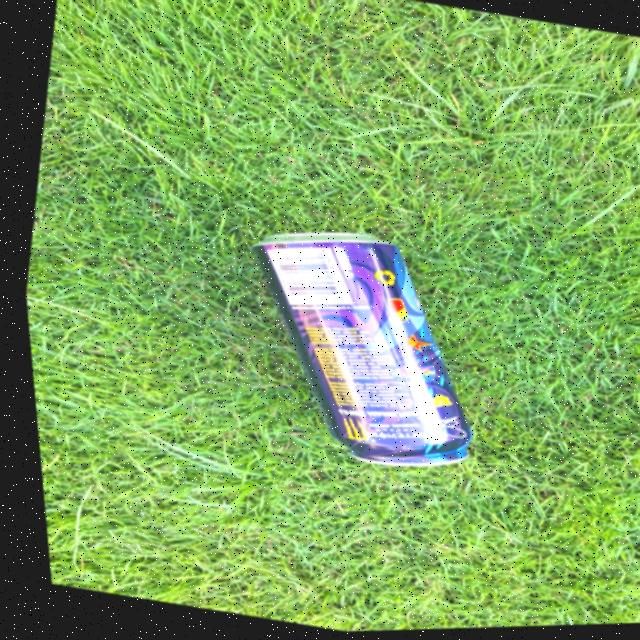Monster LH44: (214, 214, 511, 488)
